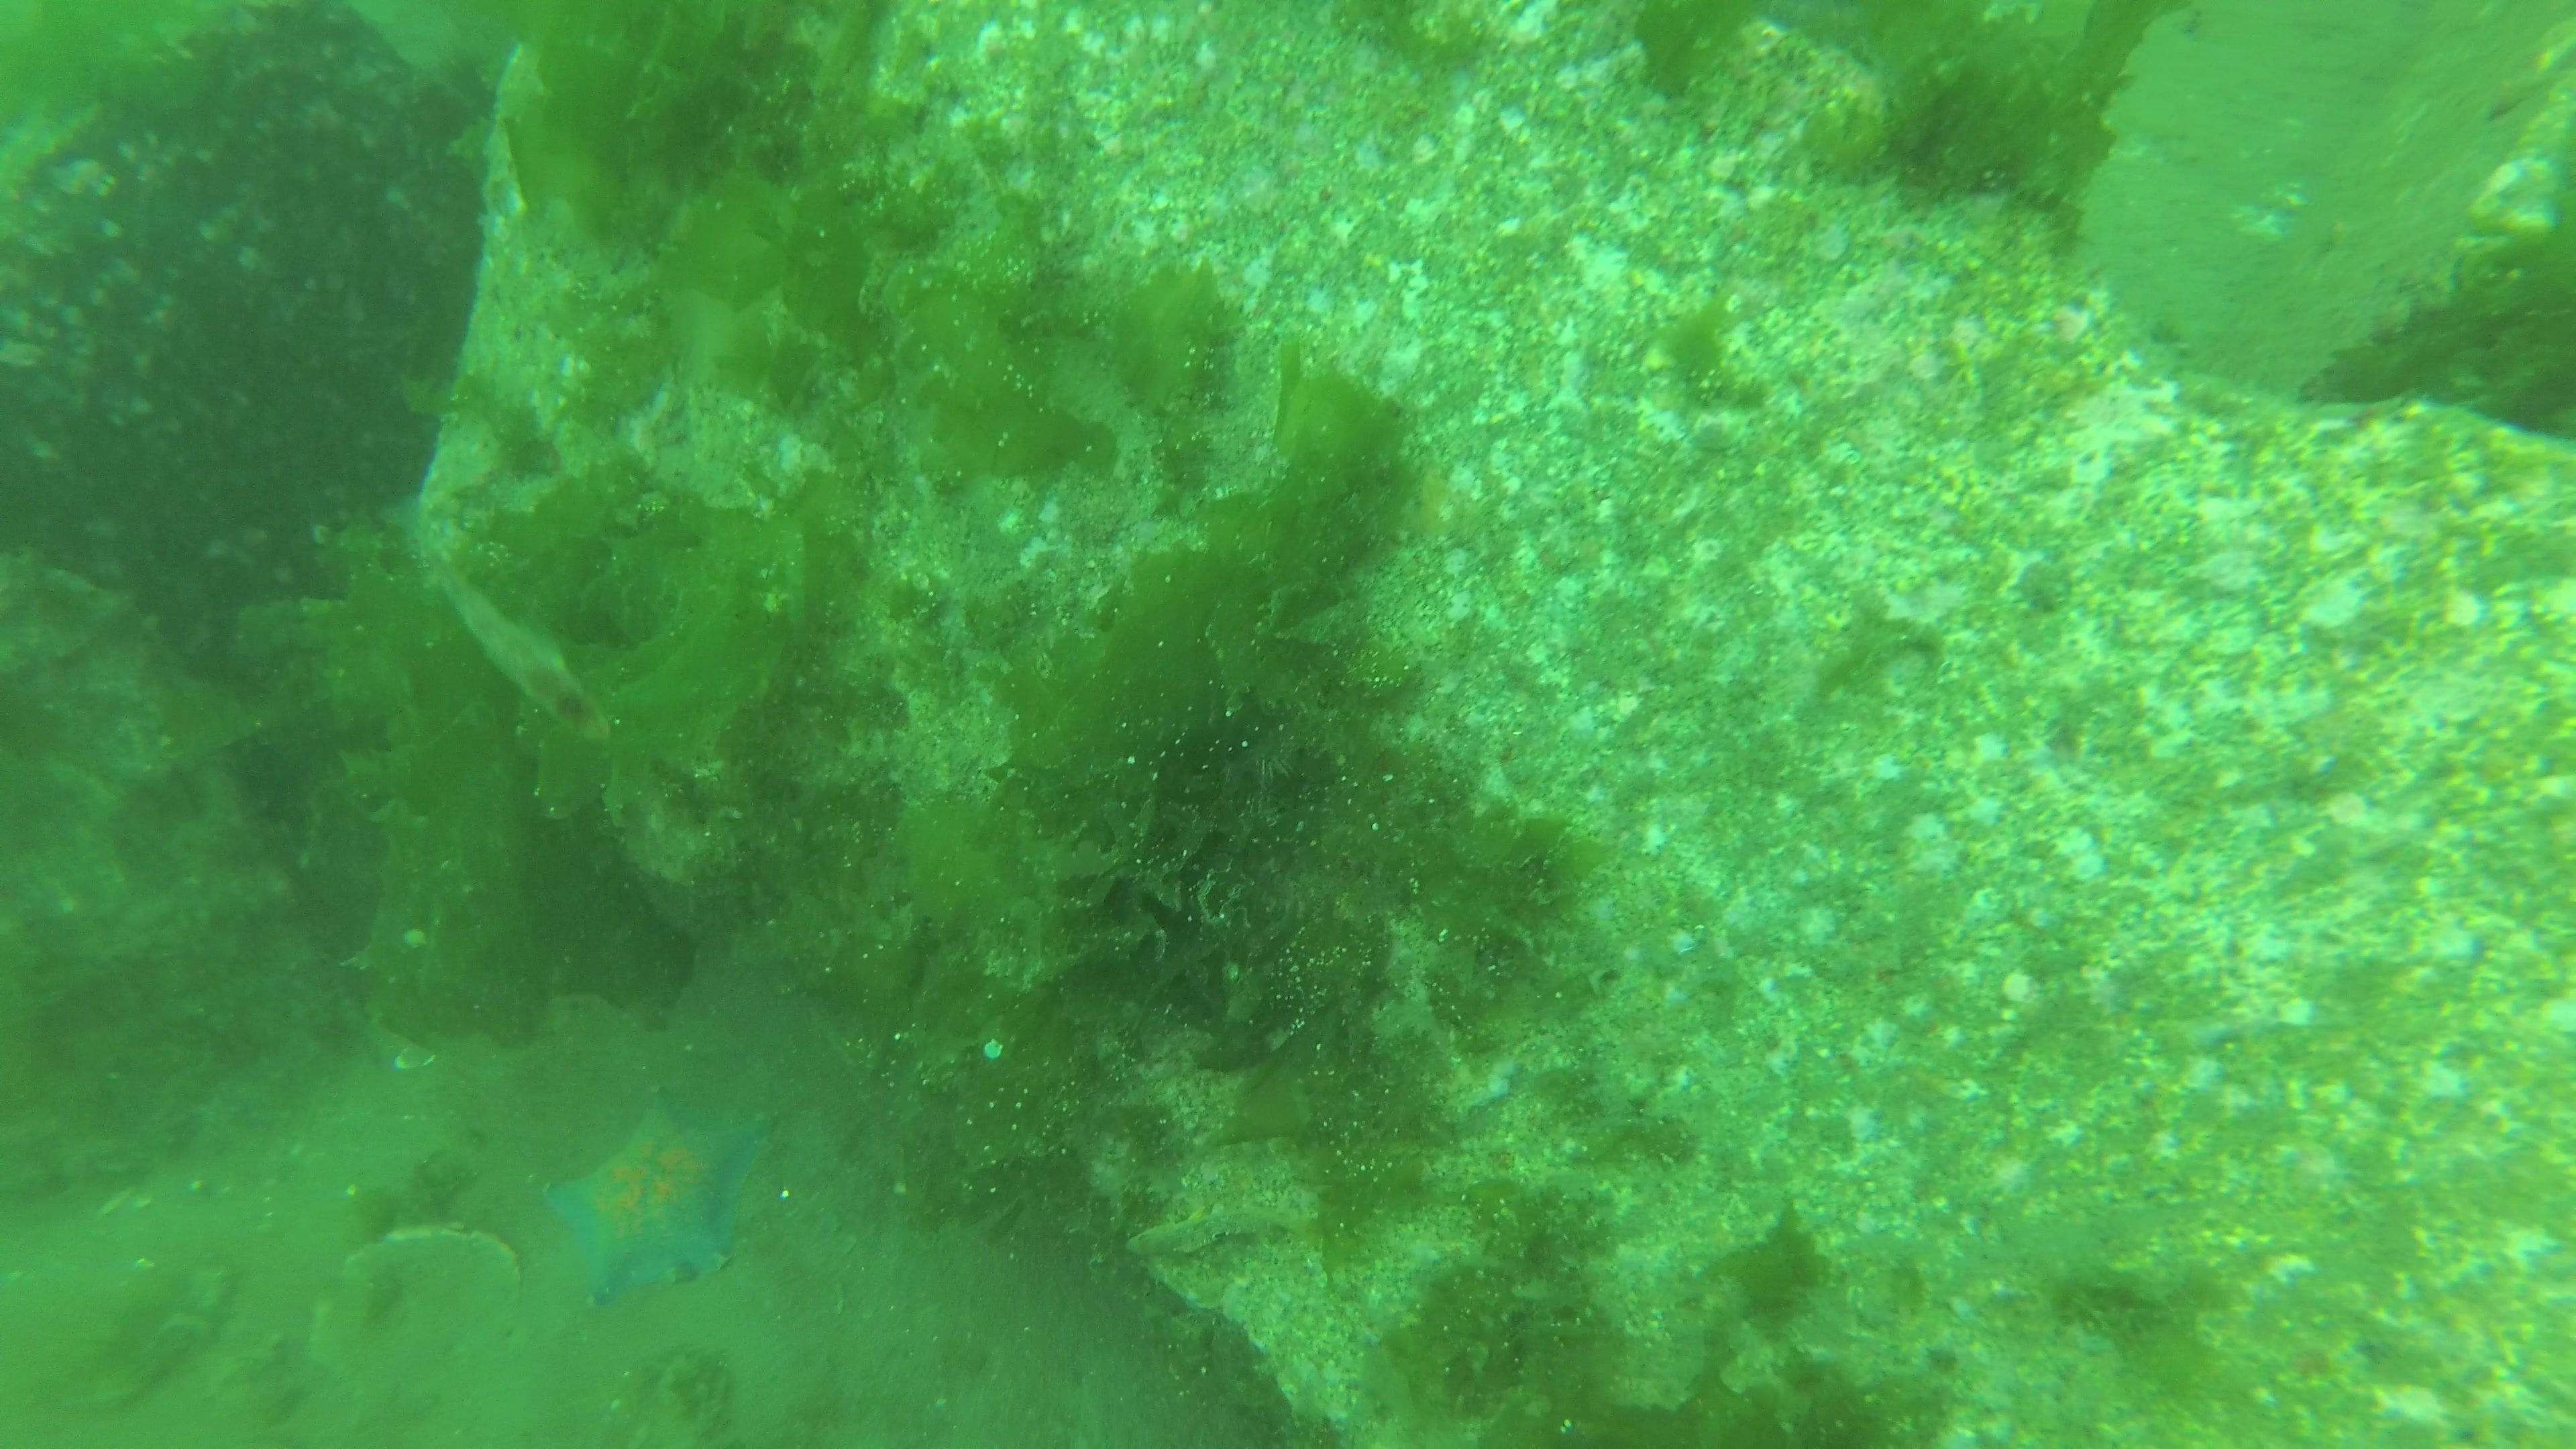scallop: (308, 1226, 522, 1407)
starfish: (545, 1086, 773, 1313)
